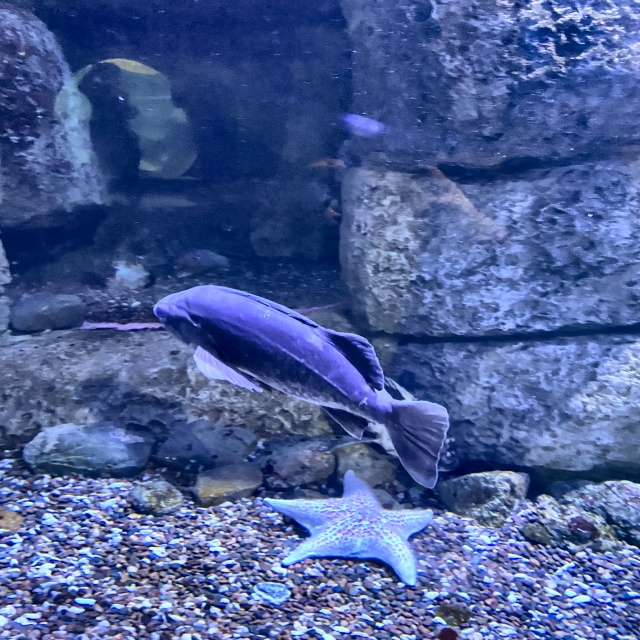fish: (154, 285, 449, 489)
starfish: (265, 470, 435, 588)
